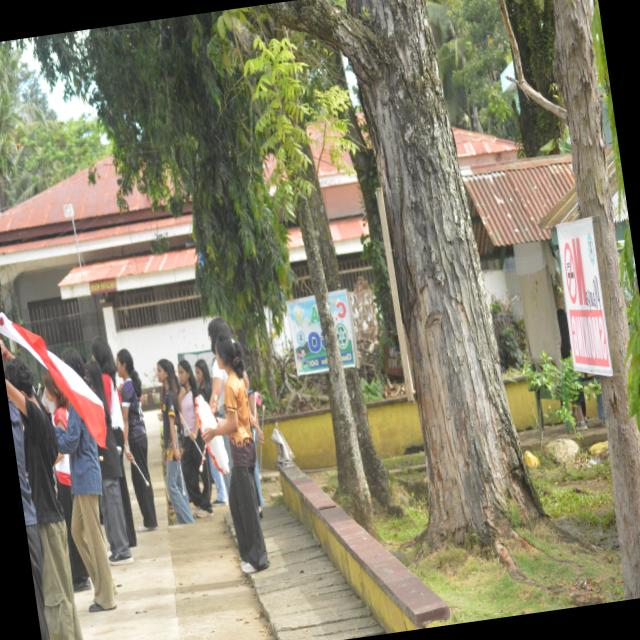person: (4, 359, 82, 639), (203, 336, 268, 573), (54, 404, 116, 612), (84, 360, 132, 565), (115, 349, 156, 532), (156, 359, 193, 524), (177, 360, 212, 518), (55, 454, 90, 592), (91, 337, 123, 448)
